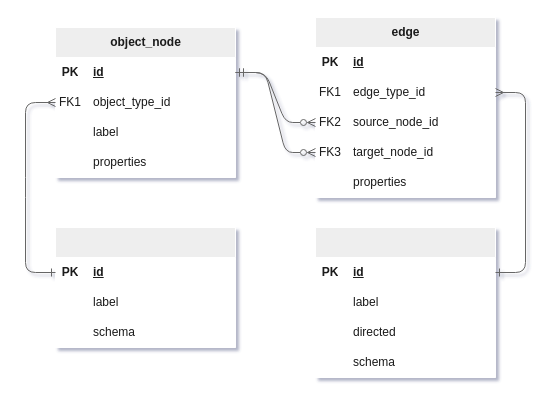
The diagram is 558 pixels wide and 401 high, and some of its shapes have lost their labels. Each missing label, with the box of its shape:
edge_type: (314, 226, 496, 378)
object_type: (54, 226, 236, 348)
